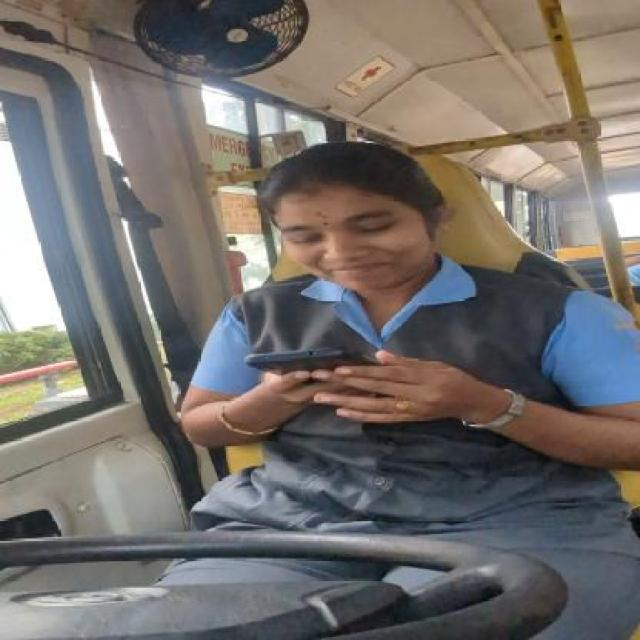Inattentive: (255, 141, 458, 292)
